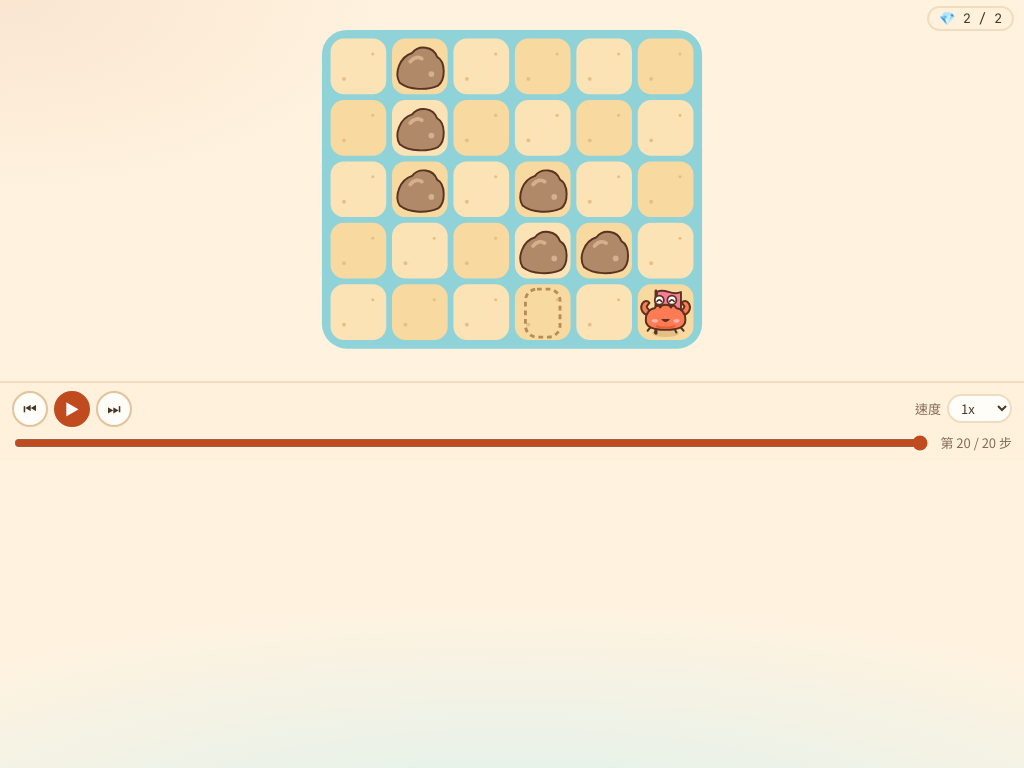
Test: F4 GridWorld › 自動播放與播放控制 › 播完後按鈕變回播放，再按從第 1 步重播
Click the button named "播放": coordinates (72, 409) [54, 391, 90, 427]
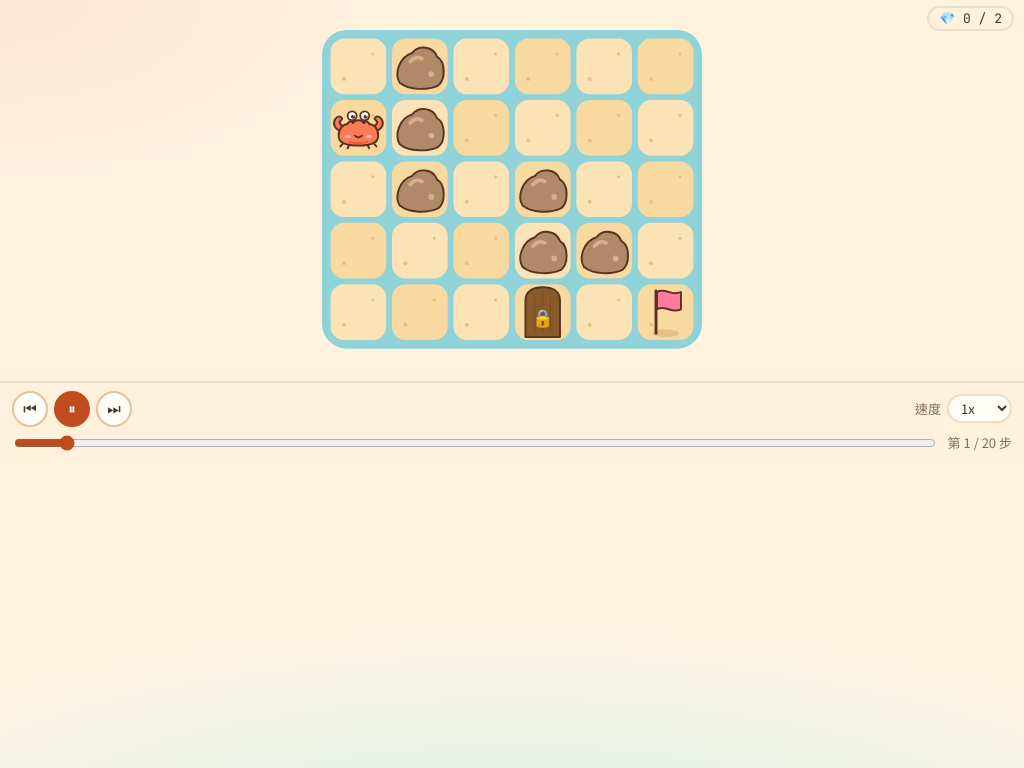
Result: the text with test id "step-label" reads "第 1 / 20 步" at [948, 433, 1012, 452]
